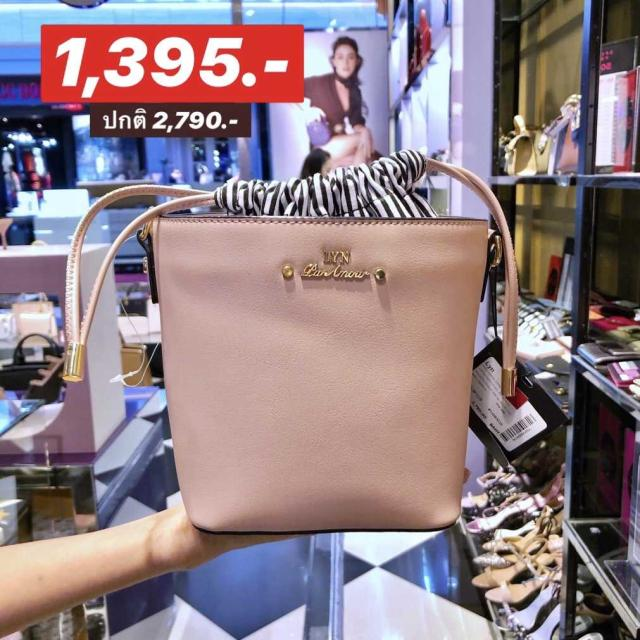Handbag: (157, 155, 524, 535)
